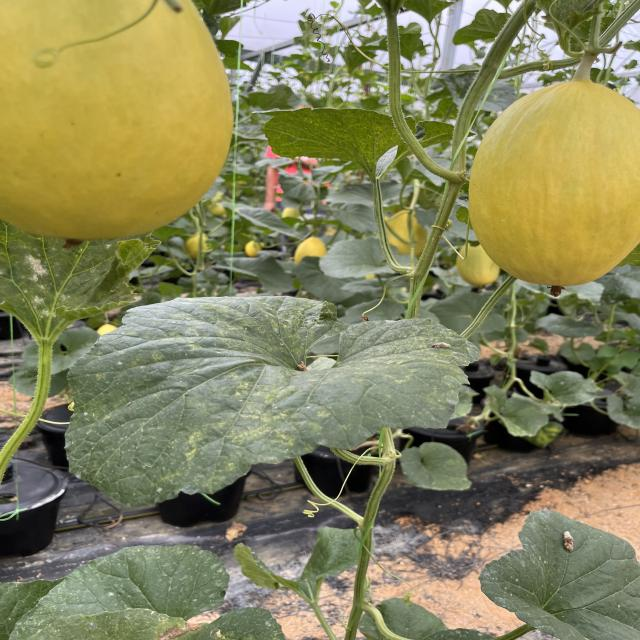SLCV: (0, 228, 161, 328)
downy mildew: (64, 289, 478, 519), (474, 511, 640, 640), (249, 106, 458, 186), (538, 0, 616, 34)
powdery mildew: (11, 534, 234, 640)
